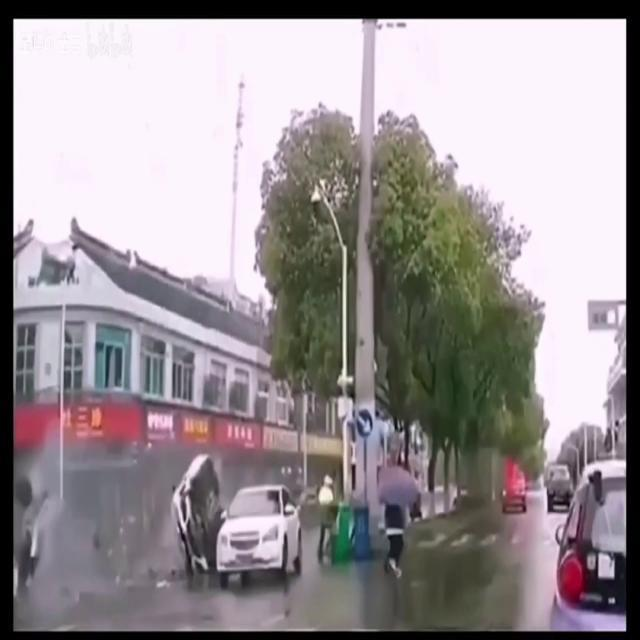accident: (15, 449, 225, 606)
non-accident: (500, 464, 626, 628)
